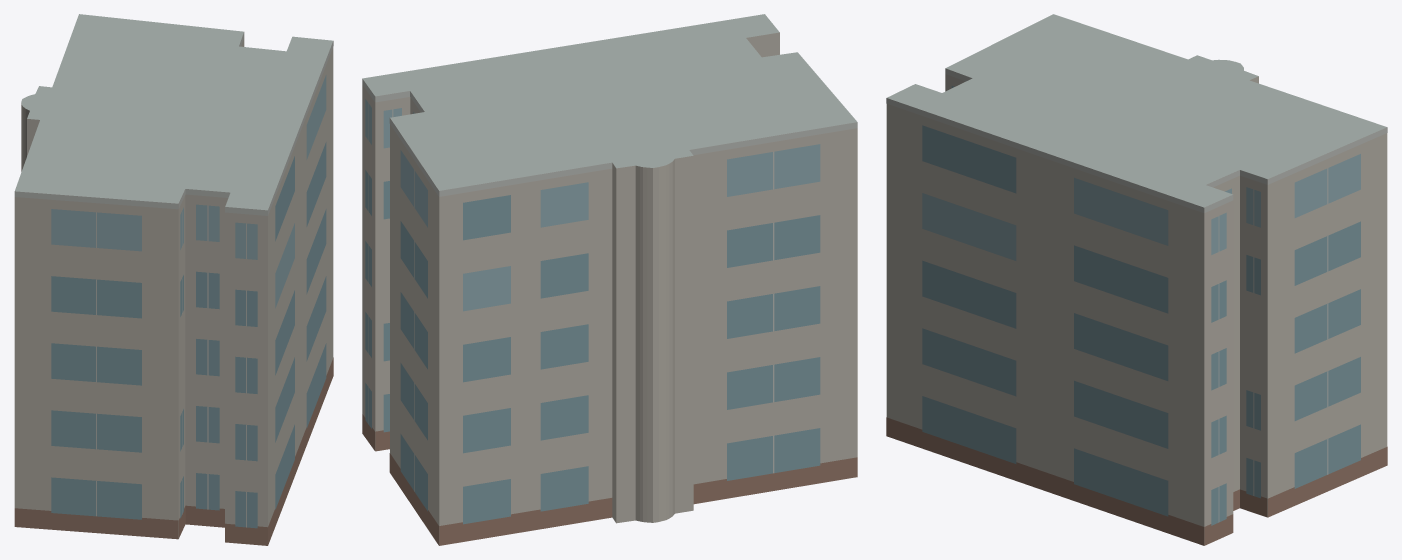
File: survey-upis-32705505.glb
3 views of the same model, side by side, from view 1: azimuth 30°, elevation 25°; view 2: azimuth 150°, elevation 25°; view 3: azimuth 270°, elevation 25° (orthographic). The views are drawn at different scales.
Parts seen in each view (by area): view 1: survey-upis-32705505.tmp; view 2: survey-upis-32705505.tmp; view 3: survey-upis-32705505.tmp.
Boxes of the visible parts, bbox=[...] form: survey-upis-32705505.tmp: bbox=[14, 14, 333, 545]; survey-upis-32705505.tmp: bbox=[362, 14, 857, 545]; survey-upis-32705505.tmp: bbox=[886, 14, 1387, 545].
Size of the model in its own units: 17.74 by 14.45 by 19.4.
